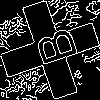B: (25, 25, 79, 71)
